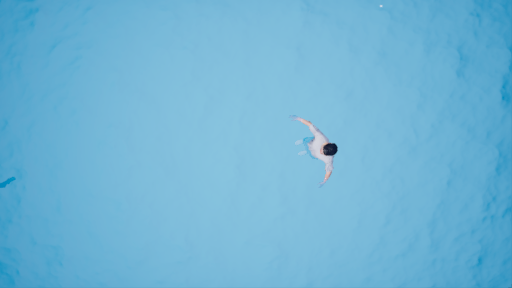person: (288, 106, 345, 189)
